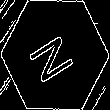N_NE: (27, 25, 83, 85)
